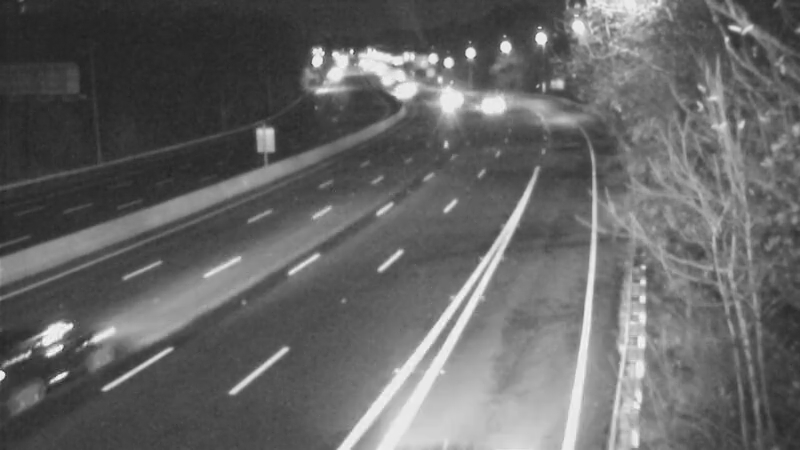vehicle: (1, 320, 106, 430), (385, 66, 435, 116), (419, 72, 469, 122), (463, 83, 513, 133)
